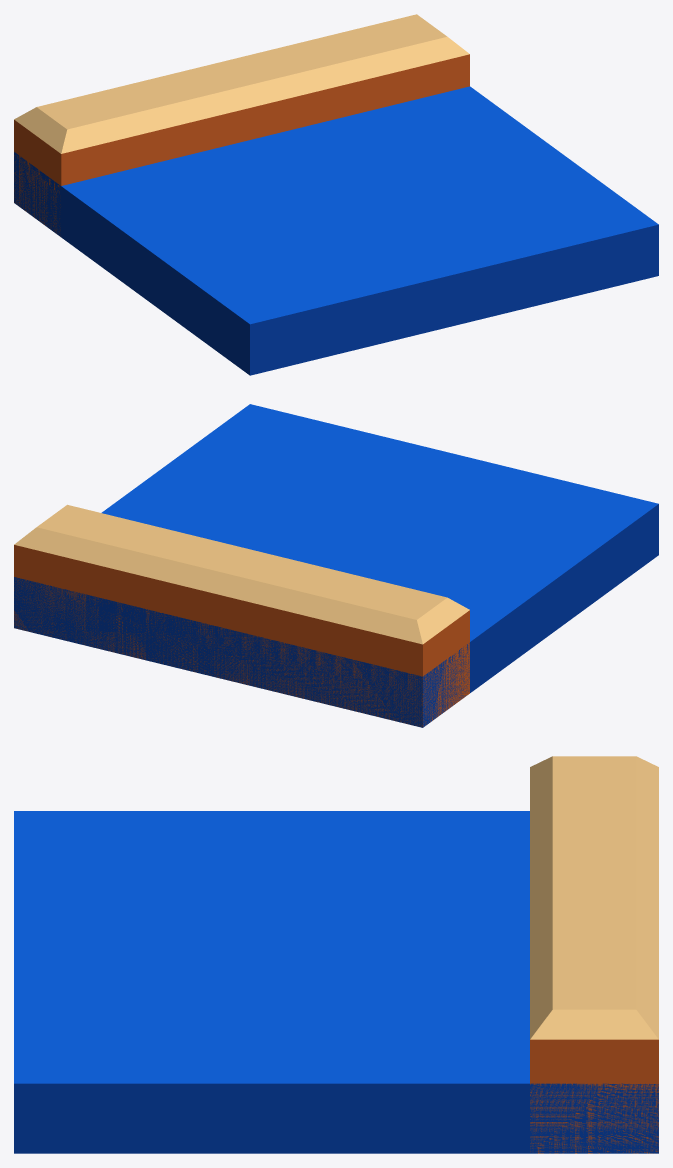
The model's file is water_edge.glb.
3 views of the same model, one above another, from view 1: azimuth 30°, elevation 25°; view 2: azimuth 150°, elevation 25°; view 3: azimuth 270°, elevation 25° (orthographic). The views are drawn at different scales.
Visible parts, largest first — view 1: water_edge; view 2: water_edge; view 3: water_edge.
Part boxes in pixels (x1=…): water_edge: x1=14, y1=14, x2=658, y2=375; water_edge: x1=14, y1=404, x2=658, y2=727; water_edge: x1=14, y1=756, x2=658, y2=1153.
Size of the model in its own units: 1 by 0.23 by 1.
1 material, 1 textured.
